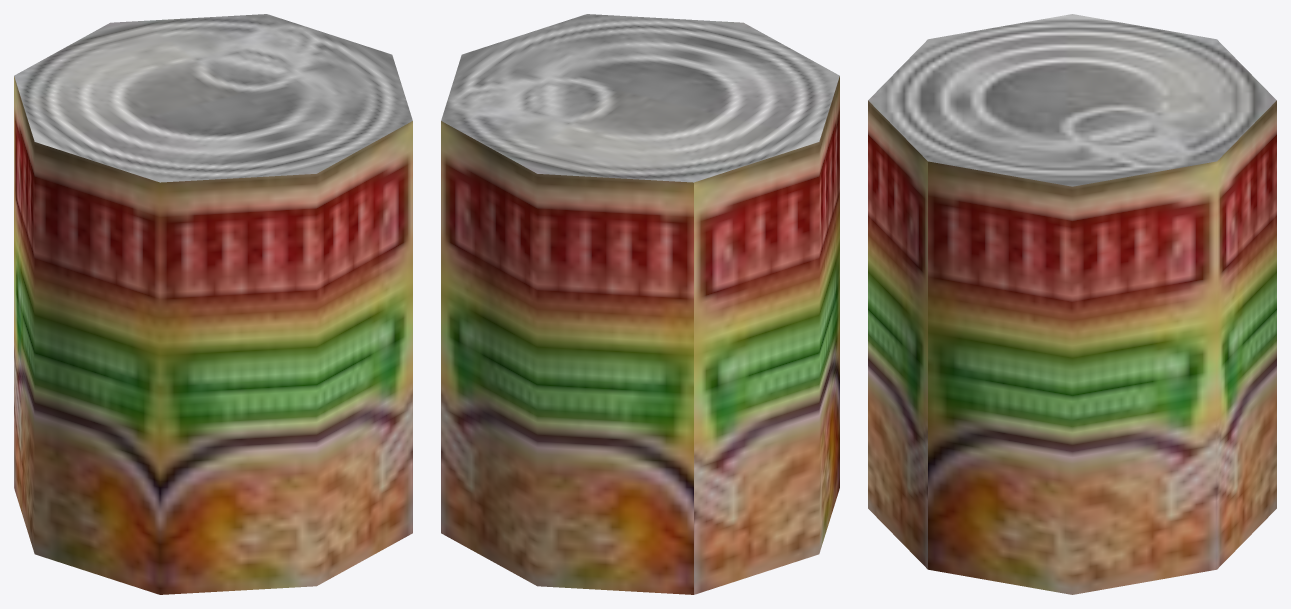
Rendered from Canned_food_07.glb.
3 views of the same model, side by side, from view 1: azimuth 30°, elevation 25°; view 2: azimuth 150°, elevation 25°; view 3: azimuth 270°, elevation 25° (orthographic).
Visible parts, largest first — view 1: Canned_food_07; view 2: Canned_food_07; view 3: Canned_food_07.
Part boxes in pixels (x1,y1,x2,y2): Canned_food_07: (14, 14, 412, 594); Canned_food_07: (441, 14, 839, 594); Canned_food_07: (868, 14, 1276, 594).
Size of the model in its own units: 0.0792 by 0.0872 by 0.0792.
Materials: 1 (1 with a texture image).
